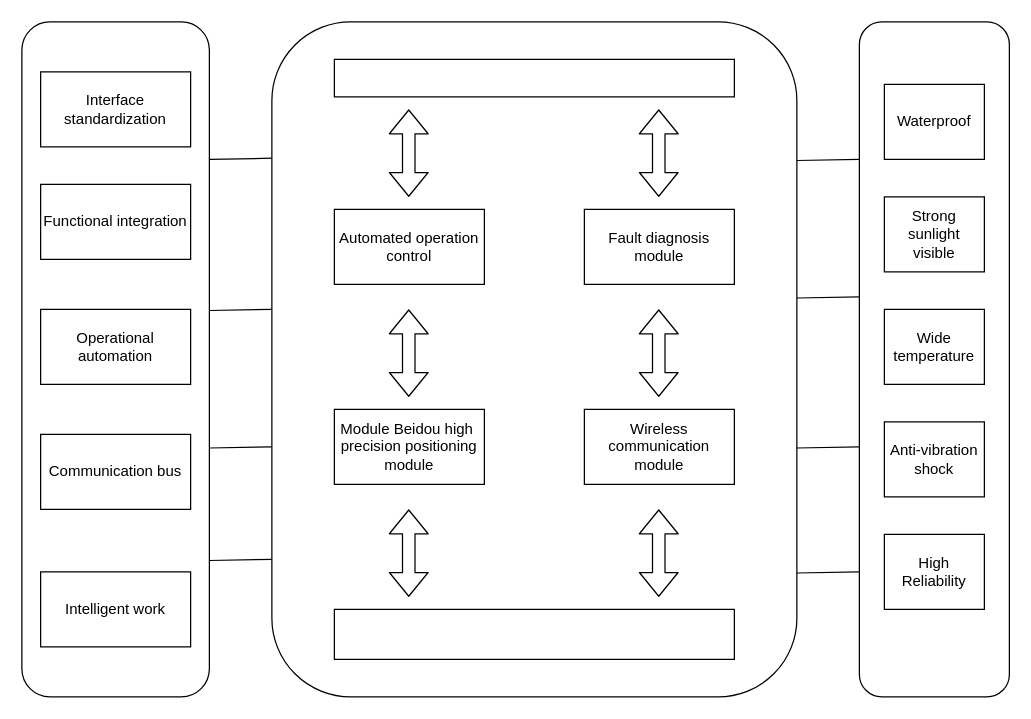
This 1031x719 diagram has some shape labels left out. Each missing label, with the centre of its shape:
"Agricultural machinery special standardized interface module" belongs at [533,633].
"Intelligent control system" belongs at [533,77].
